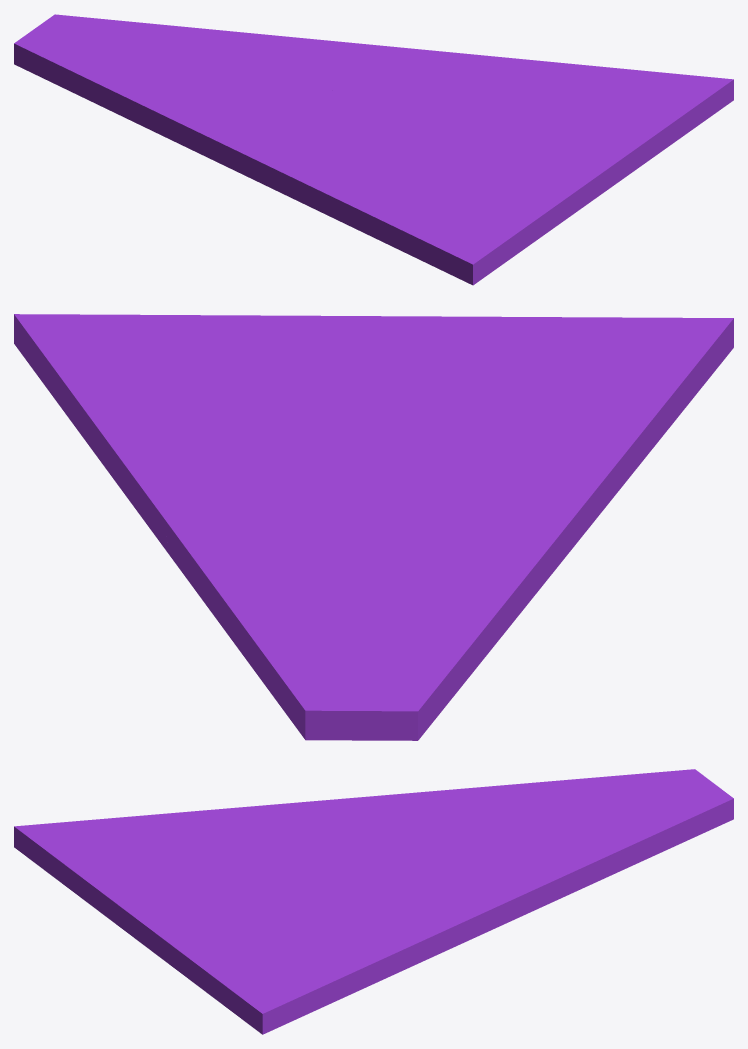
File: StairsStep_24_chunks.fbx
3 views of the same model, one above another, from view 1: azimuth 30°, elevation 25°; view 2: azimuth 150°, elevation 25°; view 3: azimuth 270°, elevation 25° (orthographic). The views are drawn at different scales.
Visible parts, largest first — view 1: StairsStep_24_2, StairsStep_24_3, StairsStep_24_1; view 2: StairsStep_24_2, StairsStep_24_3, StairsStep_24_1; view 3: StairsStep_24_2, StairsStep_24_1, StairsStep_24_3.
Part boxes in pixels (x1=…): StairsStep_24_2: x1=322, y1=45, x2=733, y2=241; StairsStep_24_3: x1=151, y1=100, x2=538, y2=285; StairsStep_24_1: x1=14, y1=14, x2=379, y2=129; StairsStep_24_2: x1=14, y1=314, x2=553, y2=552; StairsStep_24_3: x1=364, y1=317, x2=733, y2=617; StairsStep_24_1: x1=166, y1=512, x2=513, y2=740; StairsStep_24_2: x1=72, y1=853, x2=511, y2=1034; StairsStep_24_1: x1=426, y1=769, x2=733, y2=920; StairsStep_24_3: x1=14, y1=786, x2=490, y2=890.
Bounding box in the file's own units: 452 × 17.94 × 561.
